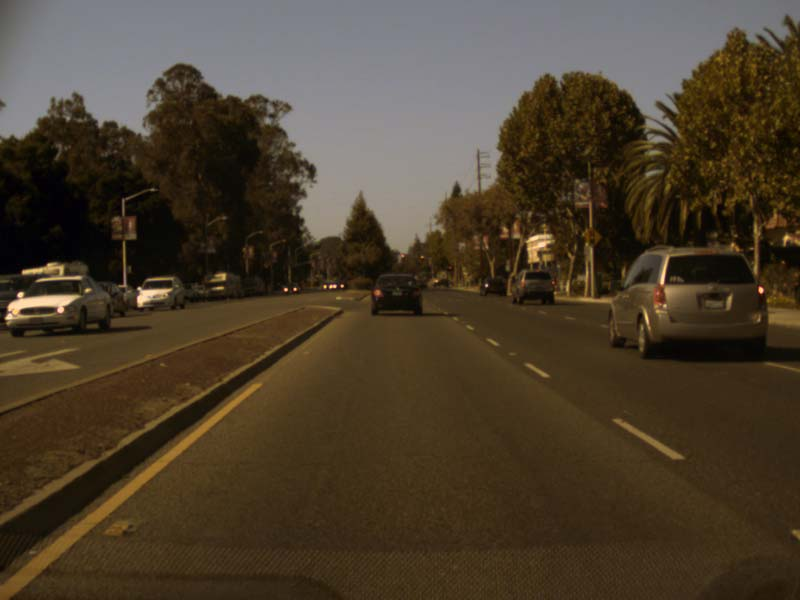Yellow: (419, 252, 424, 260), (401, 252, 404, 258), (448, 265, 451, 270)
